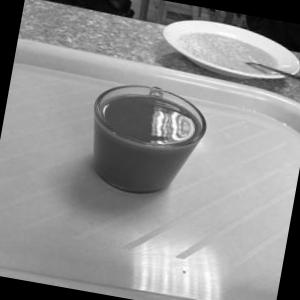coffee: (64, 61, 216, 200)
porridge: (163, 16, 293, 97)
